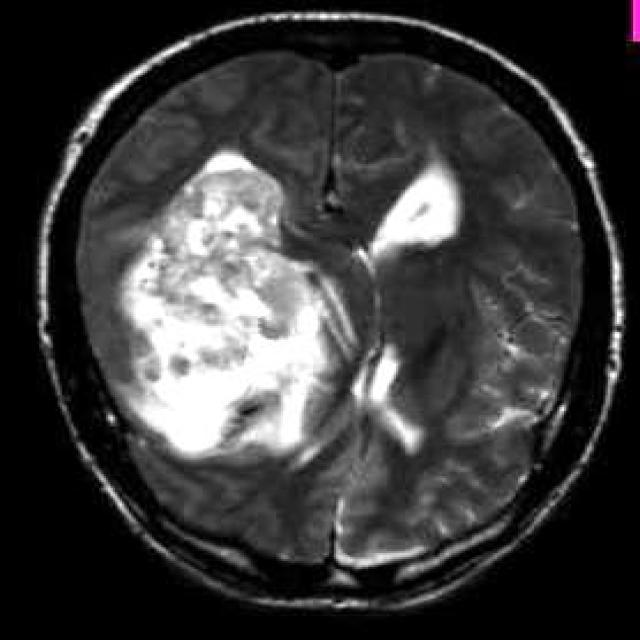brain tumor: (120, 156, 327, 452)
